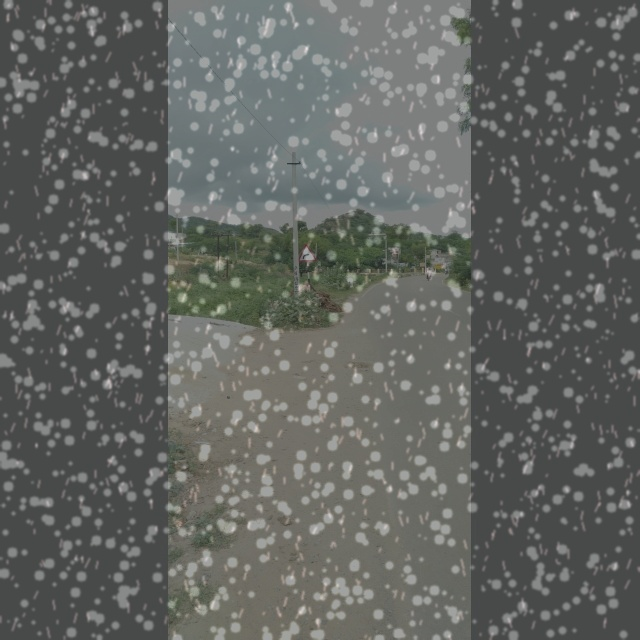Right_Hand_Curve: (297, 244, 317, 264)
